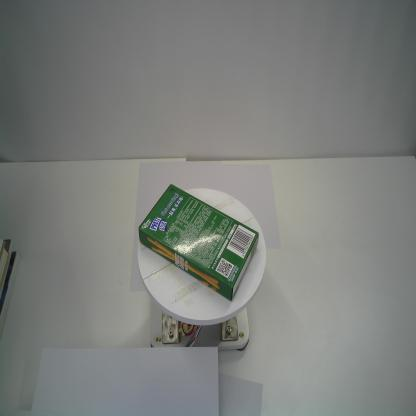Dessert: (138, 184, 260, 302)
